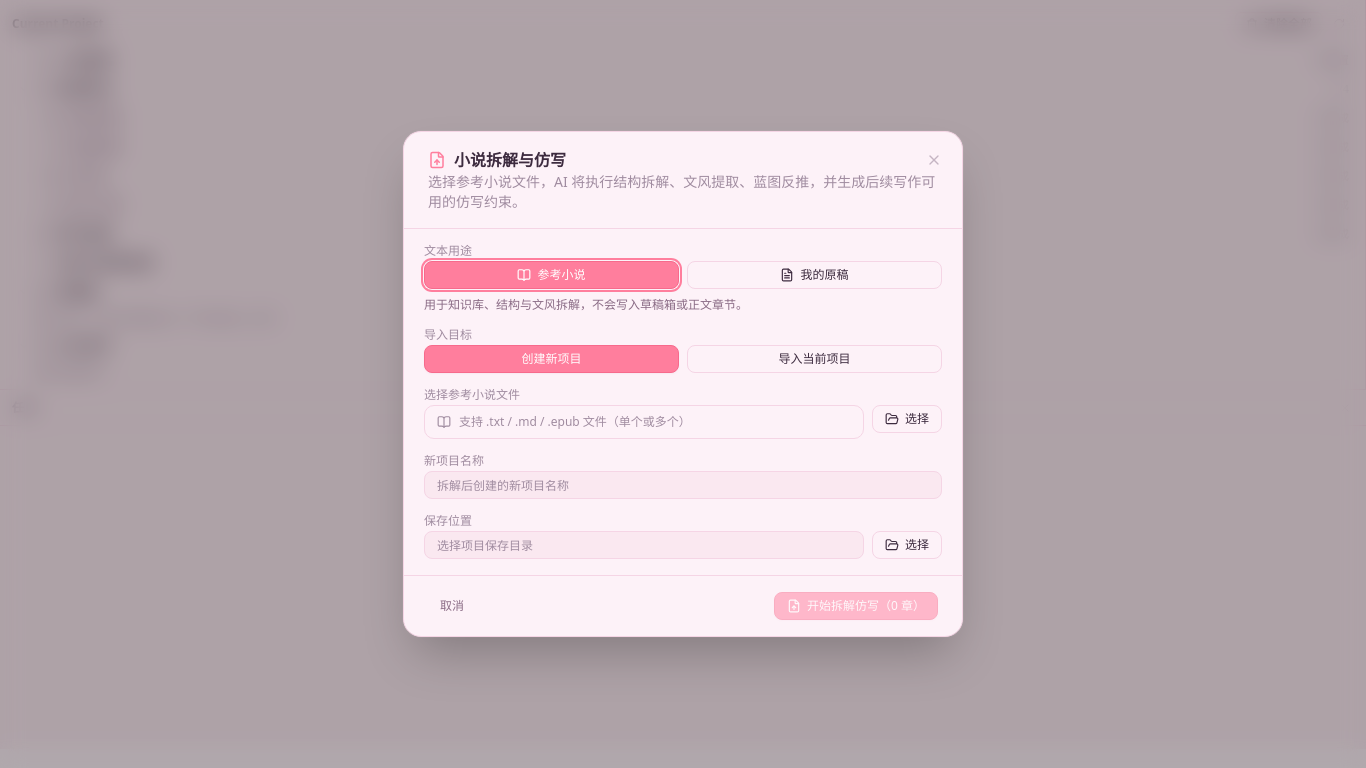
Test case: current-project reference import › renders bounded persisted preview metadata with target states and an explicit remainder
The width and height of the screenshot is (1366, 768).
Click the button with test id "import-target-current".
click(814, 359)  # box [687,345,942,373]
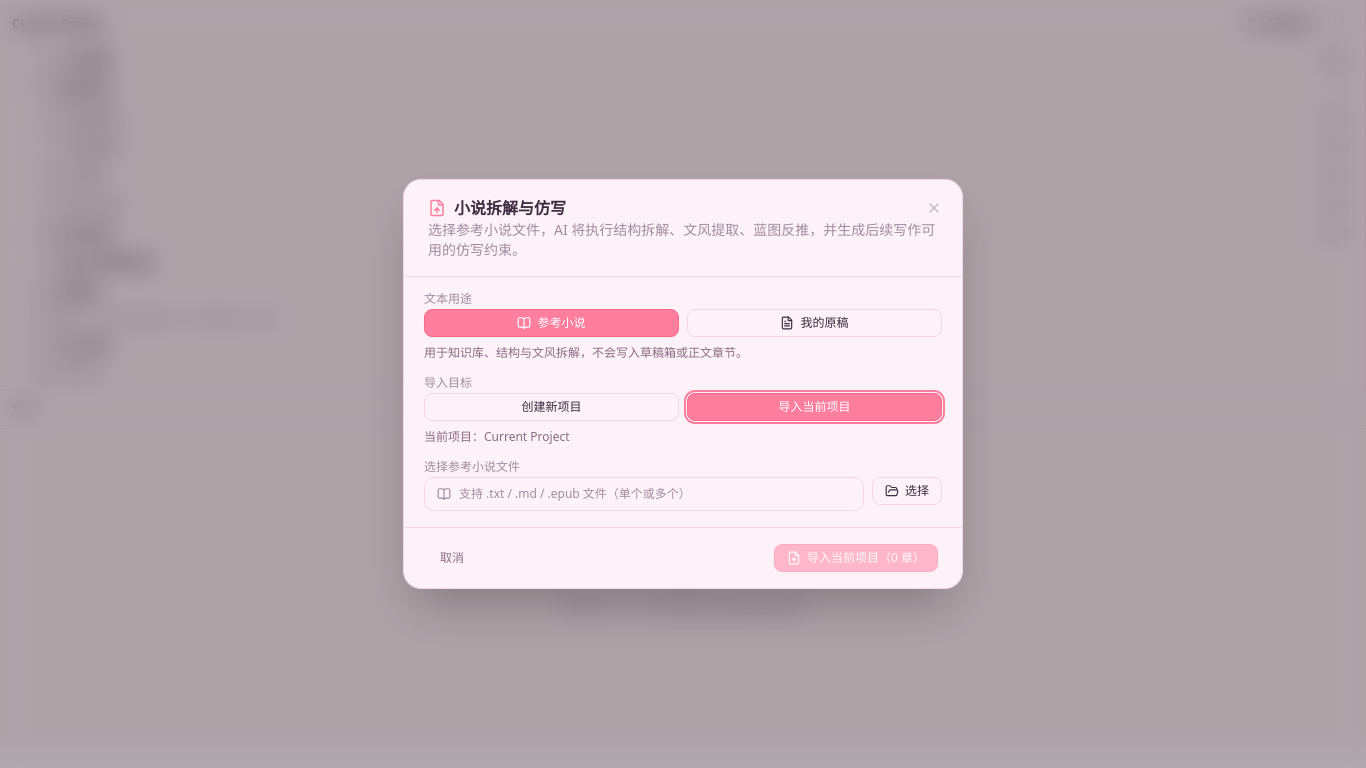
Click the button "选择".
click(907, 491)  # box [872,477,942,505]
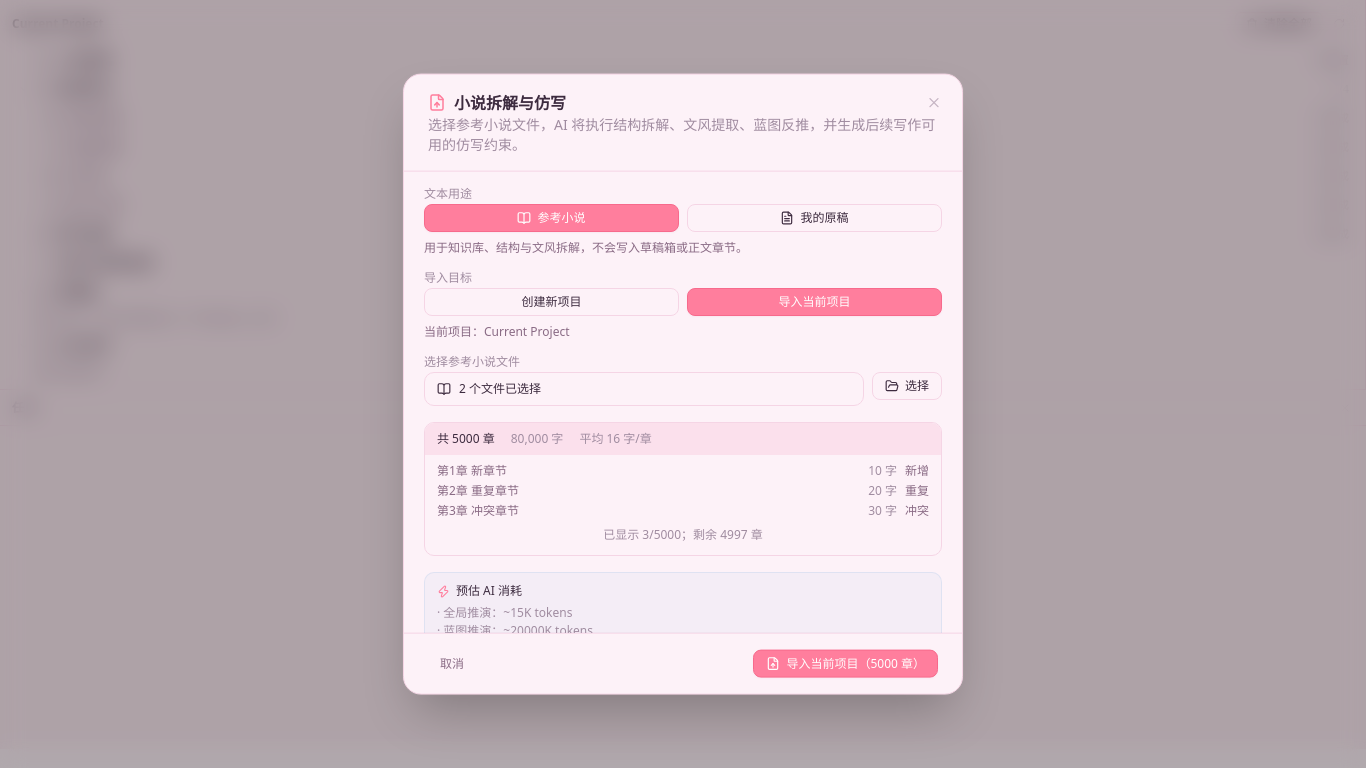
Check: the text "第1章 新章节" is shown, box [437,462,507,479]
Check: the text with test id "import-preview-status-1" reads "新增", box [905,462,929,479]
Check: the text with test id "import-preview-status-2" reads "重复", box [905,482,929,499]
